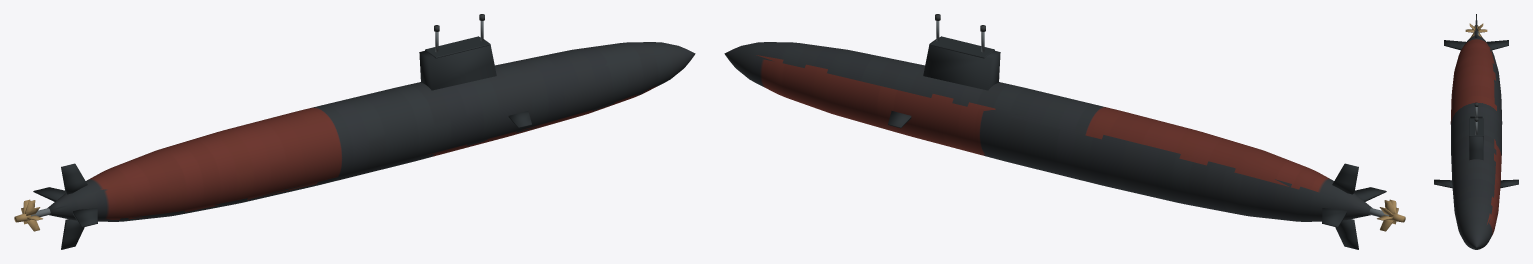
The model's file is FR_SSN_Rubis_LOD1.fbx.
3 renders of one model, left to right at view 1: azimuth 30°, elevation 25°; view 2: azimuth 150°, elevation 25°; view 3: azimuth 270°, elevation 25°, orthographic. The views are drawn at different scales.
Parts seen in each view (by area): view 1: FR_SSN_Rubis_LOD1; view 2: FR_SSN_Rubis_LOD1; view 3: FR_SSN_Rubis_LOD1.
Boxes of the visible parts, x1=… form: FR_SSN_Rubis_LOD1: x1=14, y1=14, x2=695, y2=249; FR_SSN_Rubis_LOD1: x1=724, y1=14, x2=1405, y2=249; FR_SSN_Rubis_LOD1: x1=1434, y1=14, x2=1518, y2=249.
Size of the model in its own units: 77.35 by 12.53 by 14.34.
6 materials, 1 textured.
